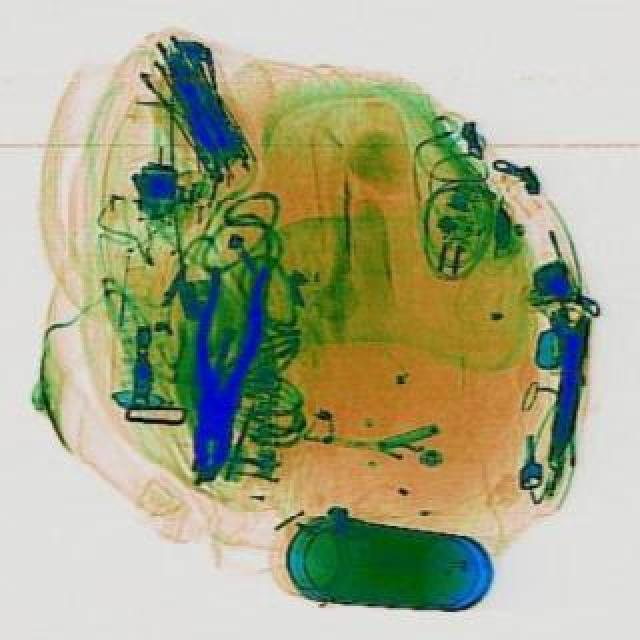wrench: (168, 260, 272, 488)
